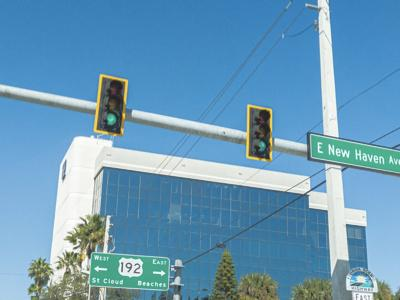International Road Signal Light: (93, 75, 128, 136), (246, 105, 273, 161)
